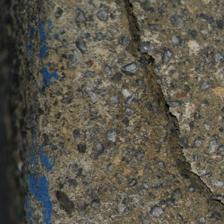Crack: (62, 2, 159, 201)
